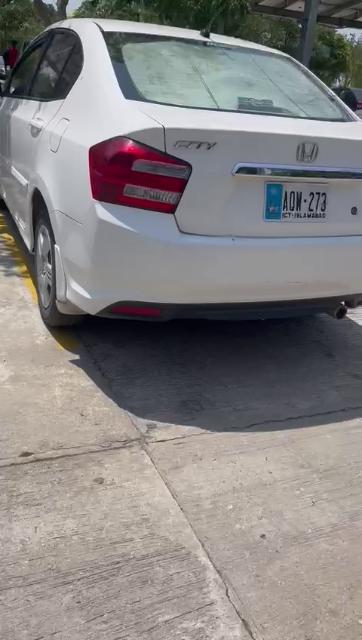plate: (263, 182, 330, 223)
